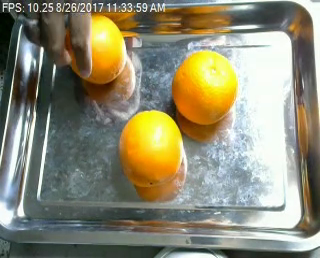Orange: (169, 48, 238, 122), (119, 108, 183, 187)
